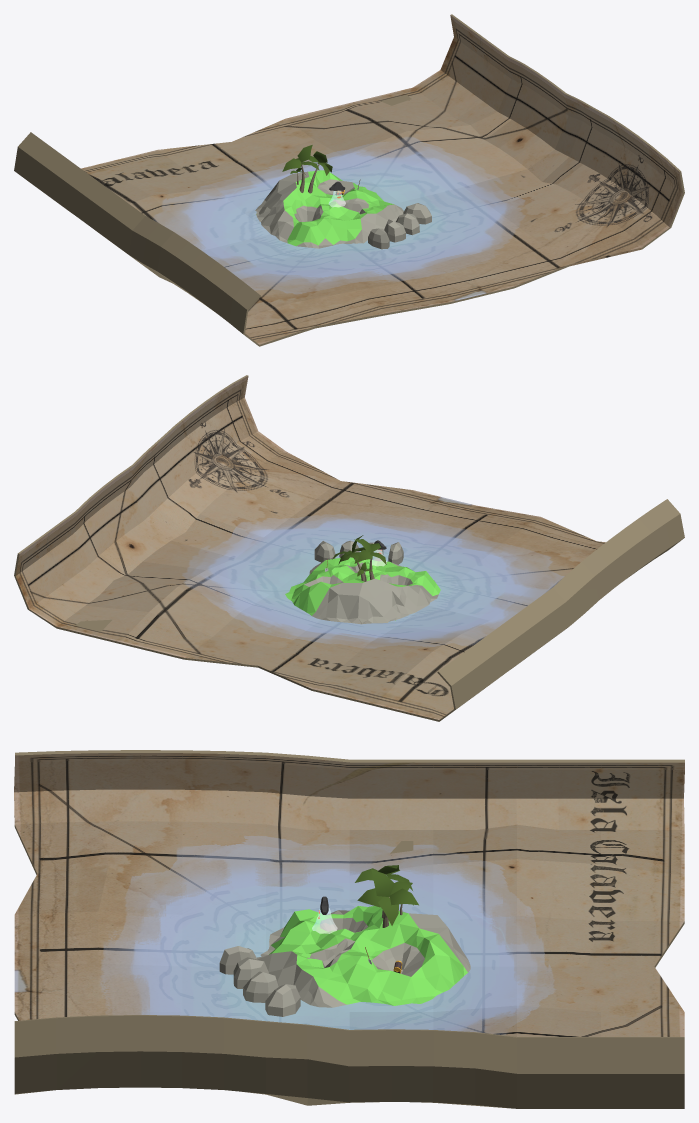
Rendered from treasure_island.glb.
The picture shows the model from 3 angles, top to bottom: view 1: azimuth 30°, elevation 25°; view 2: azimuth 150°, elevation 25°; view 3: azimuth 270°, elevation 25°; orthographic projection. The views are drawn at different scales.
Parts seen in each view (by area): view 1: Plane_2, Grid_3; view 2: Plane_2, Grid_3; view 3: Plane_2, Grid_3, coco.001_6, Sphere_10.
Boxes of the visible parts, x1,y1,x2,y2 form: Plane_2: (14,14,684,346); Grid_3: (255,170,431,249); Plane_2: (14,375,684,721); Grid_3: (285,540,440,624); Plane_2: (14,750,684,1108); Grid_3: (219,906,470,1016); coco.001_6: (357,869,418,927); Sphere_10: (312,896,337,933).
Bounding box in the file's own units: 125 × 21.81 × 113.
Materials: 13 (1 with a texture image).
